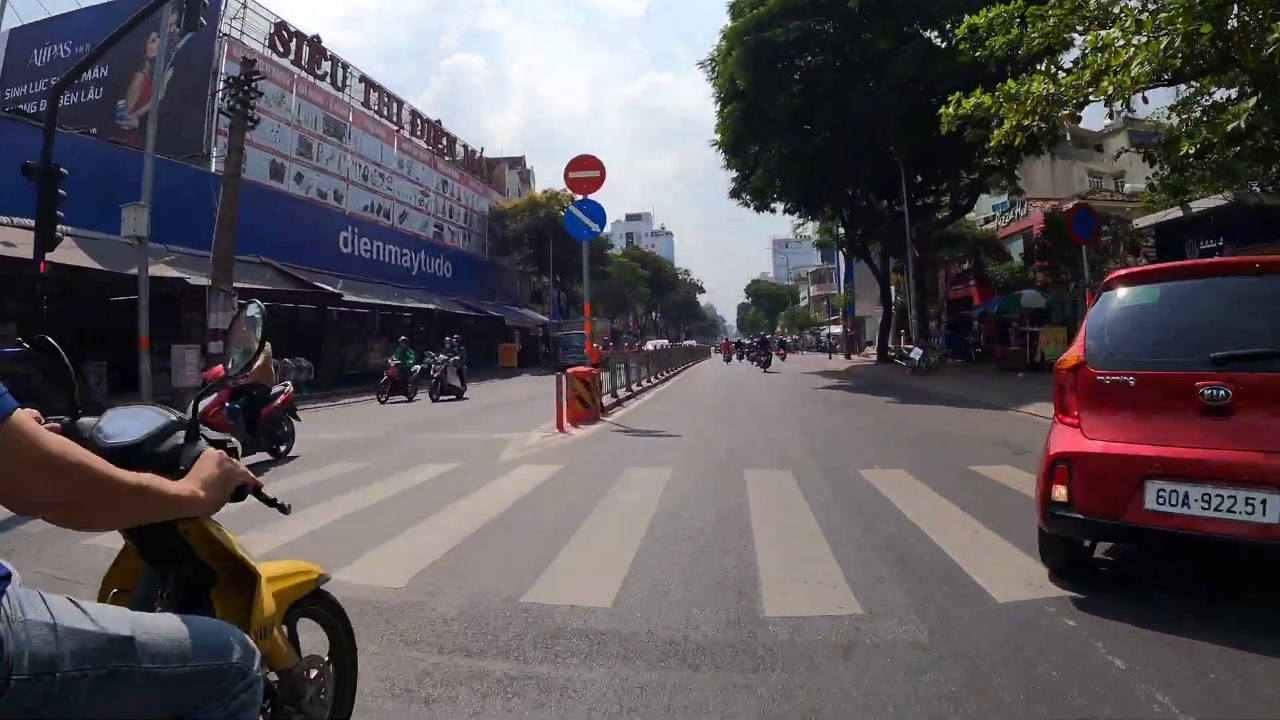cam_nguoc_chieu: (562, 154, 606, 195)
huong_phai_di_vong: (563, 198, 607, 241)
